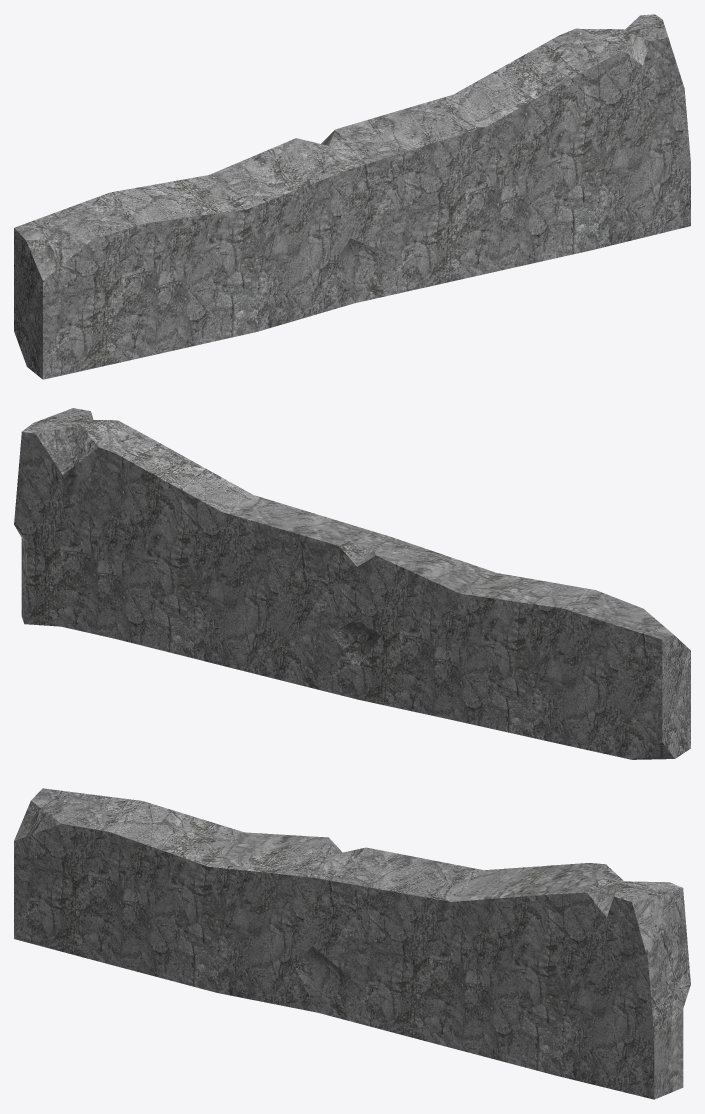
File: materials_3_wall_7.fbx
The picture shows the model from 3 angles, top to bottom: view 1: azimuth 30°, elevation 25°; view 2: azimuth 150°, elevation 25°; view 3: azimuth 330°, elevation 25°; orthographic projection.
Parts seen in each view (by area): view 1: materials_3_wall_7; view 2: materials_3_wall_7; view 3: materials_3_wall_7.
Part boxes in pixels (left/top/right/bottom): materials_3_wall_7: left=14, top=14, right=690, bottom=379; materials_3_wall_7: left=14, top=408, right=690, bottom=759; materials_3_wall_7: left=14, top=788, right=690, bottom=1099.
Bounding box in the file's own units: 507 × 149 × 52.02.
